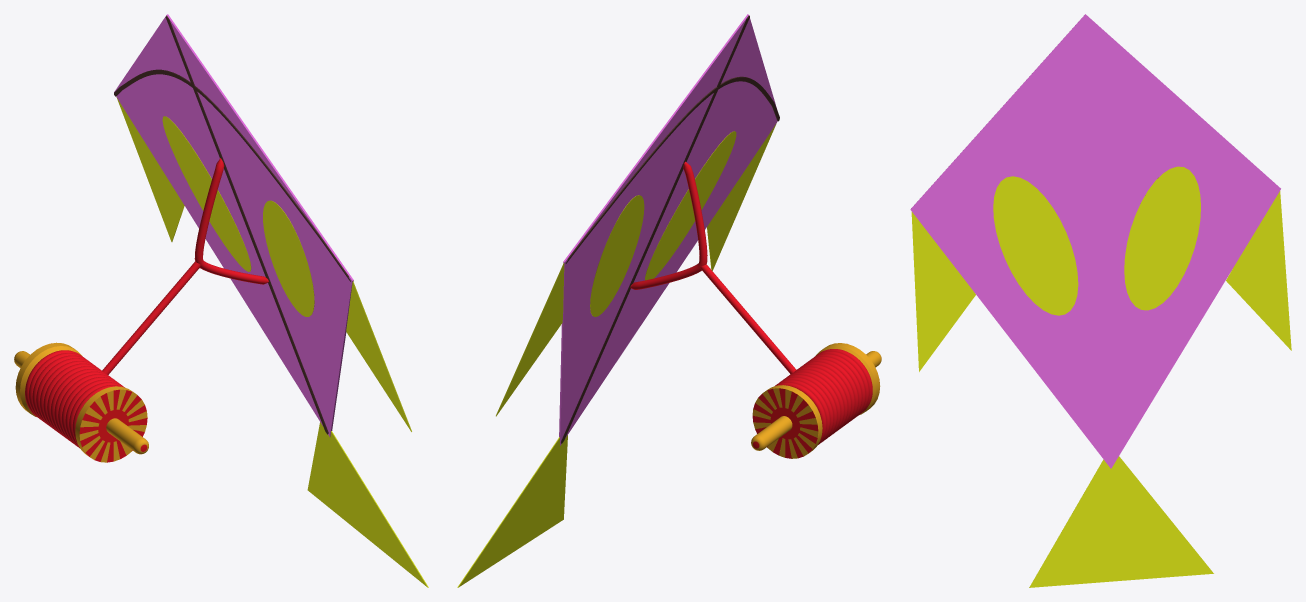
The model's file is kite.glb.
3 renders of one model, left to right at view 1: azimuth 30°, elevation 25°; view 2: azimuth 150°, elevation 25°; view 3: azimuth 270°, elevation 25°, orthographic. The views are drawn at different scales.
Visible parts, largest first — view 1: Cube_8, Cylinder.003_10, Cube.002_2, Torus_11, Cylinder.001_7, Cylinder_6, Cube.001_1, Cube.003_3, BezierCurve_0, Cube.004_4, Cylinder.002_9, Cube.005_5; view 2: Cube_8, Cylinder.003_10, Cube.002_2, Torus_11, Cylinder_6, Cylinder.001_7, Cube.003_3, Cube.001_1, BezierCurve_0, Cube.004_4, Cylinder.002_9, Cube.005_5; view 3: Cube_8, Cube.002_2, Cylinder.001_7, Cylinder_6, Cube.001_1, Cube.003_3.
Part boxes in pixels (bbox=[...]): Cube_8: bbox=[114, 14, 353, 436]; Cylinder.003_10: bbox=[14, 342, 148, 462]; Cube.002_2: bbox=[307, 422, 428, 587]; Torus_11: bbox=[25, 350, 124, 448]; Cylinder.001_7: bbox=[263, 200, 314, 316]; Cylinder_6: bbox=[162, 116, 251, 271]; Cube.001_1: bbox=[346, 281, 411, 431]; Cube.003_3: bbox=[116, 97, 184, 241]; BezierCurve_0: bbox=[194, 158, 268, 284]; Cube.004_4: bbox=[165, 16, 328, 434]; Cylinder.002_9: bbox=[102, 261, 200, 374]; Cube.005_5: bbox=[114, 69, 350, 281]; Cube_8: bbox=[559, 14, 777, 445]; Cylinder.003_10: bbox=[751, 343, 881, 458]; Cube.002_2: bbox=[457, 435, 567, 587]; Torus_11: bbox=[775, 349, 872, 444]; Cylinder_6: bbox=[590, 195, 644, 316]; Cylinder.001_7: bbox=[645, 131, 736, 280]; Cube.003_3: bbox=[496, 263, 564, 416]; Cube.001_1: bbox=[707, 123, 776, 270]; BezierCurve_0: bbox=[630, 161, 707, 289]; Cube.004_4: bbox=[561, 15, 749, 443]; Cylinder.002_9: bbox=[700, 264, 796, 373]; Cube.005_5: bbox=[565, 76, 779, 263]; Cube_8: bbox=[910, 14, 1280, 468]; Cube.002_2: bbox=[1029, 456, 1213, 587]; Cylinder.001_7: bbox=[993, 176, 1078, 315]; Cylinder_6: bbox=[1124, 166, 1200, 310]; Cube.001_1: bbox=[911, 211, 975, 371]; Cube.003_3: bbox=[1226, 191, 1291, 350].
Bounding box in the file's own units: 10.33 × 17.58 × 12.52.
